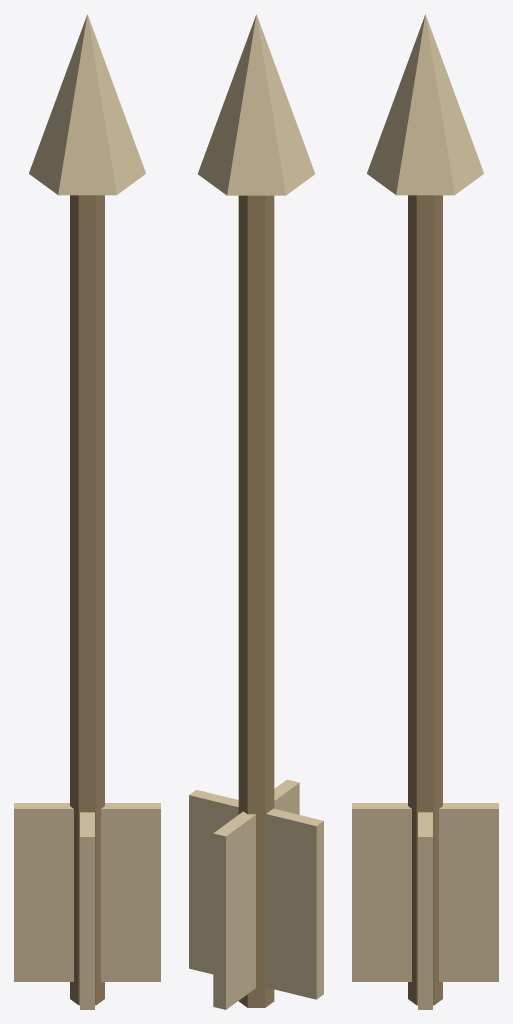
The picture shows the model from 3 angles, left to right: view 1: azimuth 90°, elevation 25°; view 2: azimuth 150°, elevation 25°; view 3: azimuth 270°, elevation 25°; orthographic projection.
Visible parts, largest first — view 1: Shaft, Fletching.001, Arrowhead, Fletching; view 2: Shaft, Fletching, Arrowhead, Fletching.001; view 3: Shaft, Fletching.001, Arrowhead, Fletching.
Boxes of the visible parts, x1,y1,x2,y2 form: Shaft: (70, 195, 104, 1005); Fletching.001: (14, 803, 160, 981); Arrowhead: (29, 14, 145, 195); Fletching: (80, 812, 94, 1009); Shaft: (238, 195, 274, 1007); Fletching: (189, 790, 323, 999); Arrowhead: (198, 14, 314, 195); Fletching.001: (213, 779, 299, 1009); Shaft: (408, 195, 442, 1005); Fletching.001: (352, 803, 498, 981); Arrowhead: (367, 14, 483, 195); Fletching: (418, 812, 432, 1009).
Size of the model in its own units: 0.1 by 0.74 by 0.1.
